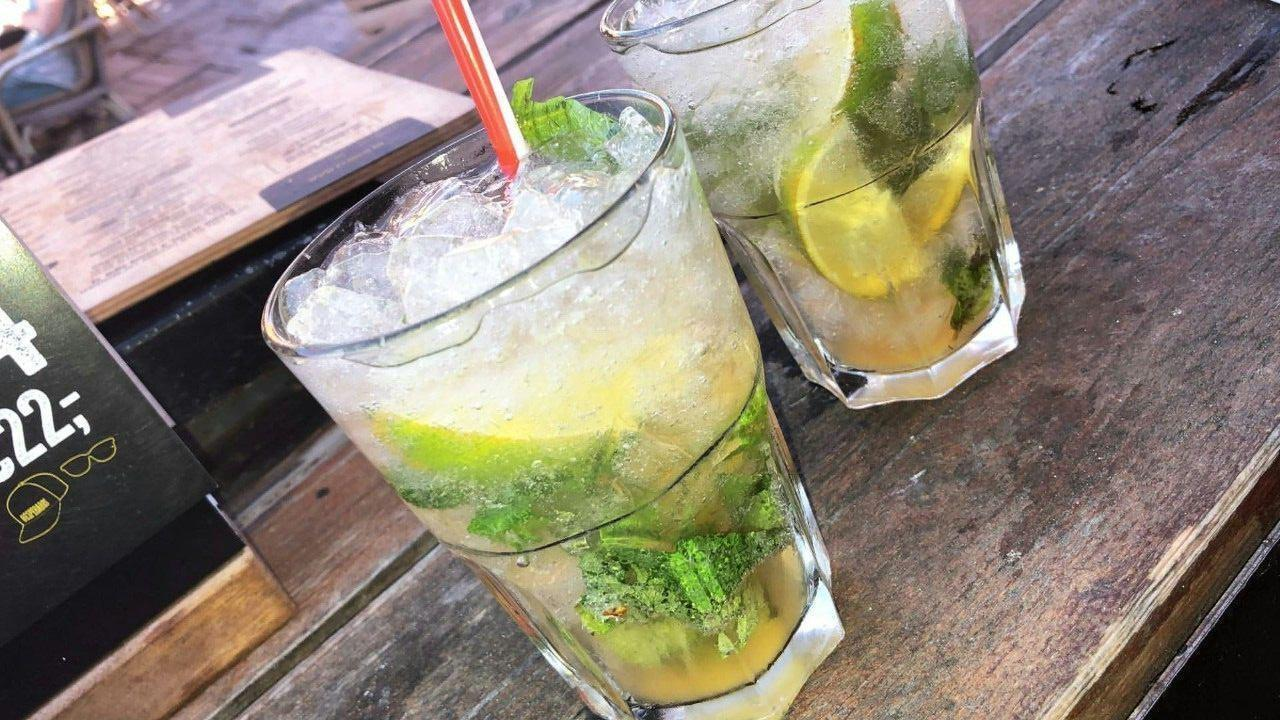glass-normal: (258, 78, 844, 719), (593, 2, 1026, 412)
